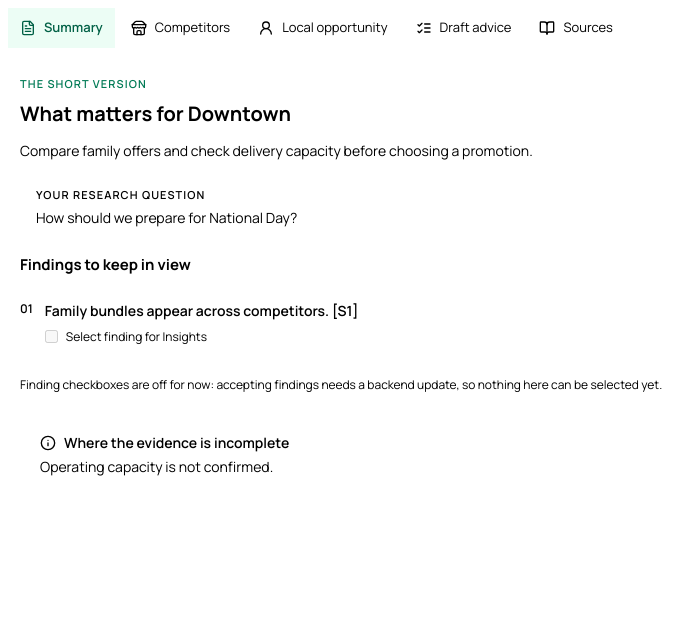
Scenario: ReportReaderView acceptance › hides the actions with a reason when the reader cannot accept
The image size is (679, 635).
Click the button "Draft advice". click: click(464, 28)
box: [404, 8, 524, 48]
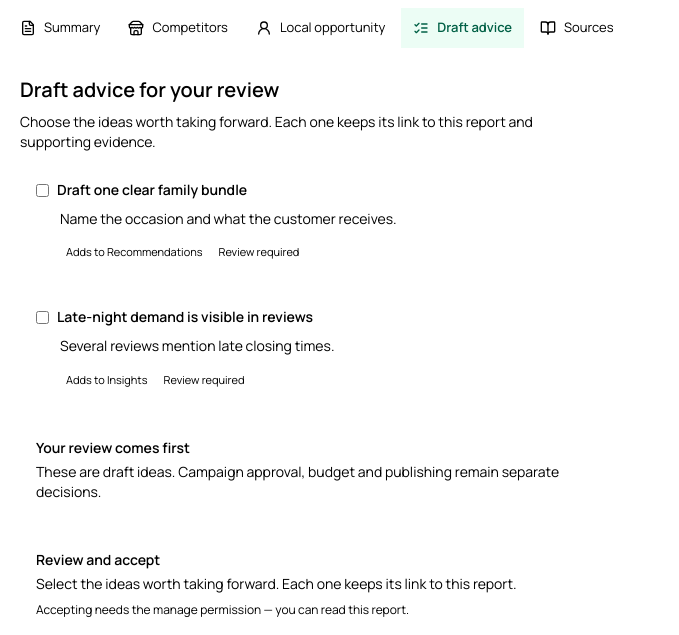
Now the text "needs the manage permission" is shown, box [36, 601, 409, 618]
